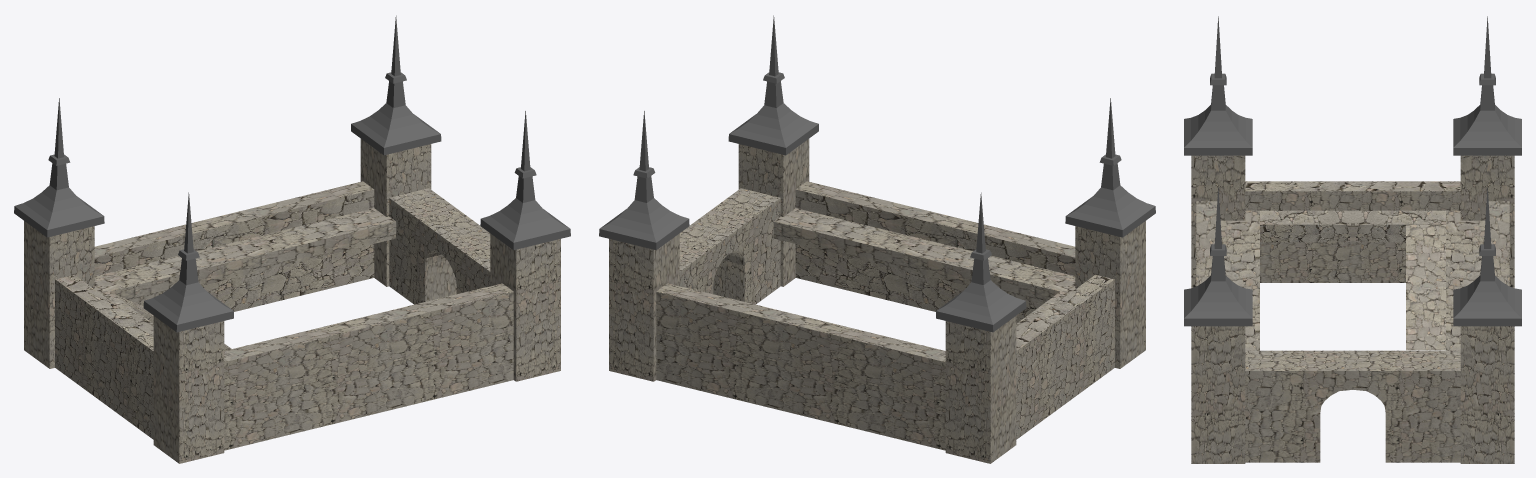
Rendered from Castle.fbx.
3 views of the same model, side by side, from view 1: azimuth 30°, elevation 25°; view 2: azimuth 150°, elevation 25°; view 3: azimuth 270°, elevation 25° (orthographic). The views are drawn at different scales.
Parts seen in each view (by area): view 1: Cube.001, Cube, Cube.005, Cube.002, Cube.003; view 2: Cube.001, Cube, Cube.005, Cube.002, Cube.003; view 3: Cube, Cube.003, Cube.005, Cube.001, Cube.002, Cube.006.
Boxes of the visible parts, x1,y1,x2,y2 form: Cube.001: (94, 181, 513, 450); Cube: (24, 139, 560, 463); Cube.005: (14, 15, 570, 332); Cube.002: (55, 274, 153, 439); Cube.003: (389, 188, 490, 304); Cube.001: (656, 181, 1075, 450); Cube: (609, 139, 1145, 463); Cube.005: (599, 15, 1155, 332); Cube.002: (1016, 274, 1114, 439); Cube.003: (679, 188, 780, 304); Cube: (1191, 155, 1514, 463); Cube.003: (1245, 350, 1460, 462); Cube.005: (1184, 16, 1521, 326); Cube.001: (1196, 201, 1509, 350); Cube.002: (1245, 181, 1460, 282); Cube.006: (1406, 225, 1445, 350).
Size of the model in its own units: 1755 by 1098 by 1255.
2 materials, 1 textured.
